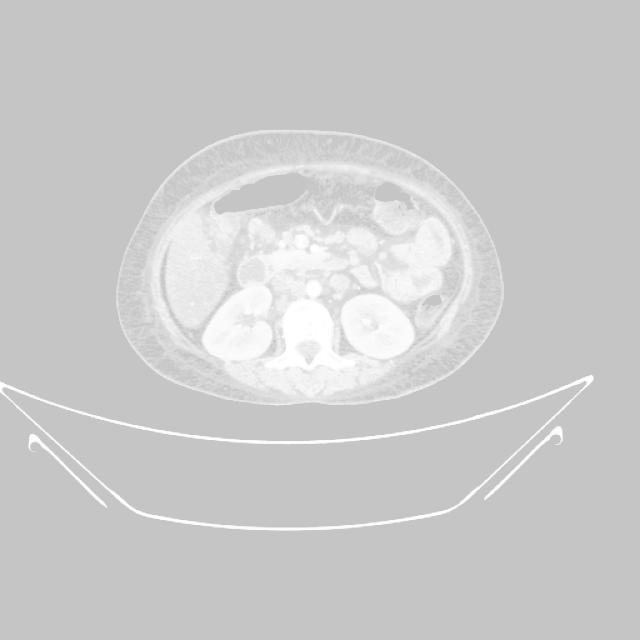NORMAL: (118, 127, 505, 416)
